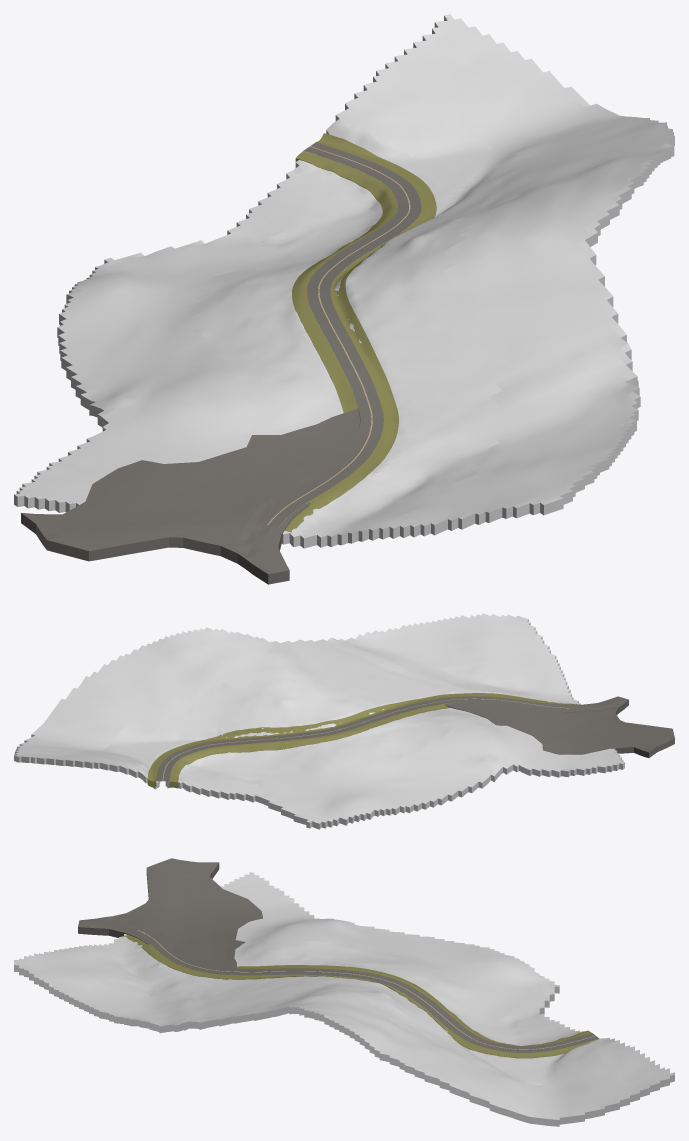
Rendered from conz_192.glb.
The picture shows the model from 3 angles, top to bottom: view 1: azimuth 30°, elevation 25°; view 2: azimuth 150°, elevation 25°; view 3: azimuth 270°, elevation 25°; orthographic projection. The views are drawn at different scales.
Visible parts, largest first — view 1: terrain192, lot192_9, road192, verge192R, verge192L; view 2: terrain192, lot192_9, road192, verge192R, verge192L, paint_yellow192; view 3: terrain192, lot192_9, road192, verge192R, verge192L, paint_yellow192.
Part boxes in pixels (bbox=[...]): terrain192: bbox=[14, 14, 674, 548]; lot192_9: bbox=[21, 409, 364, 584]; road192: bbox=[259, 142, 421, 526]; verge192R: bbox=[278, 133, 436, 532]; verge192L: bbox=[292, 150, 397, 427]; terrain192: bbox=[14, 613, 624, 829]; lot192_9: bbox=[444, 696, 674, 757]; road192: bbox=[156, 696, 579, 781]; verge192R: bbox=[147, 693, 577, 787]; verge192L: bbox=[169, 702, 495, 788]; paint_yellow192: bbox=[162, 698, 568, 780]; terrain192: bbox=[14, 872, 674, 1126]; lot192_9: bbox=[78, 858, 262, 968]; road192: bbox=[132, 929, 599, 1052]; verge192R: bbox=[124, 932, 598, 1058]; verge192L: bbox=[236, 965, 591, 1046]; paint_yellow192: bbox=[138, 930, 595, 1049].
Bounding box in the file's own units: 257 × 40.42 × 264.
